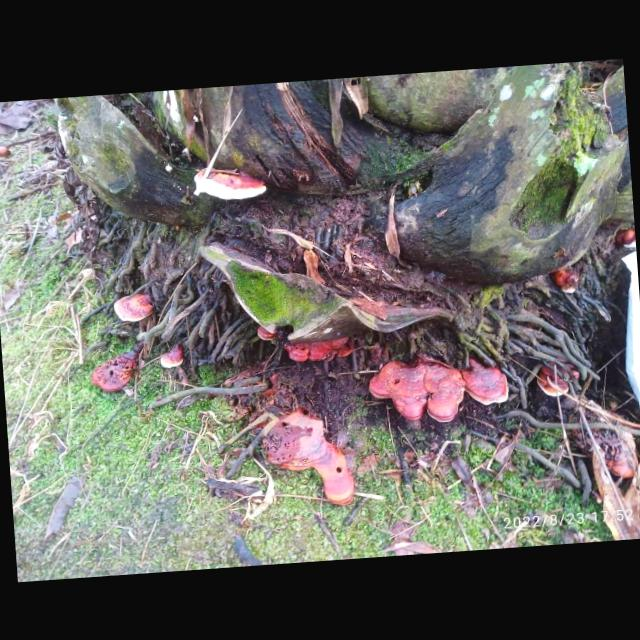ganoderma: (261, 407, 356, 512), (367, 354, 469, 429), (194, 166, 267, 204), (461, 358, 512, 409), (89, 352, 144, 396), (281, 336, 355, 368), (535, 358, 582, 399), (602, 438, 640, 482), (113, 293, 158, 324), (551, 268, 582, 297), (161, 349, 185, 369), (258, 325, 279, 342), (620, 229, 636, 249)
primordium: (164, 165, 174, 174)
